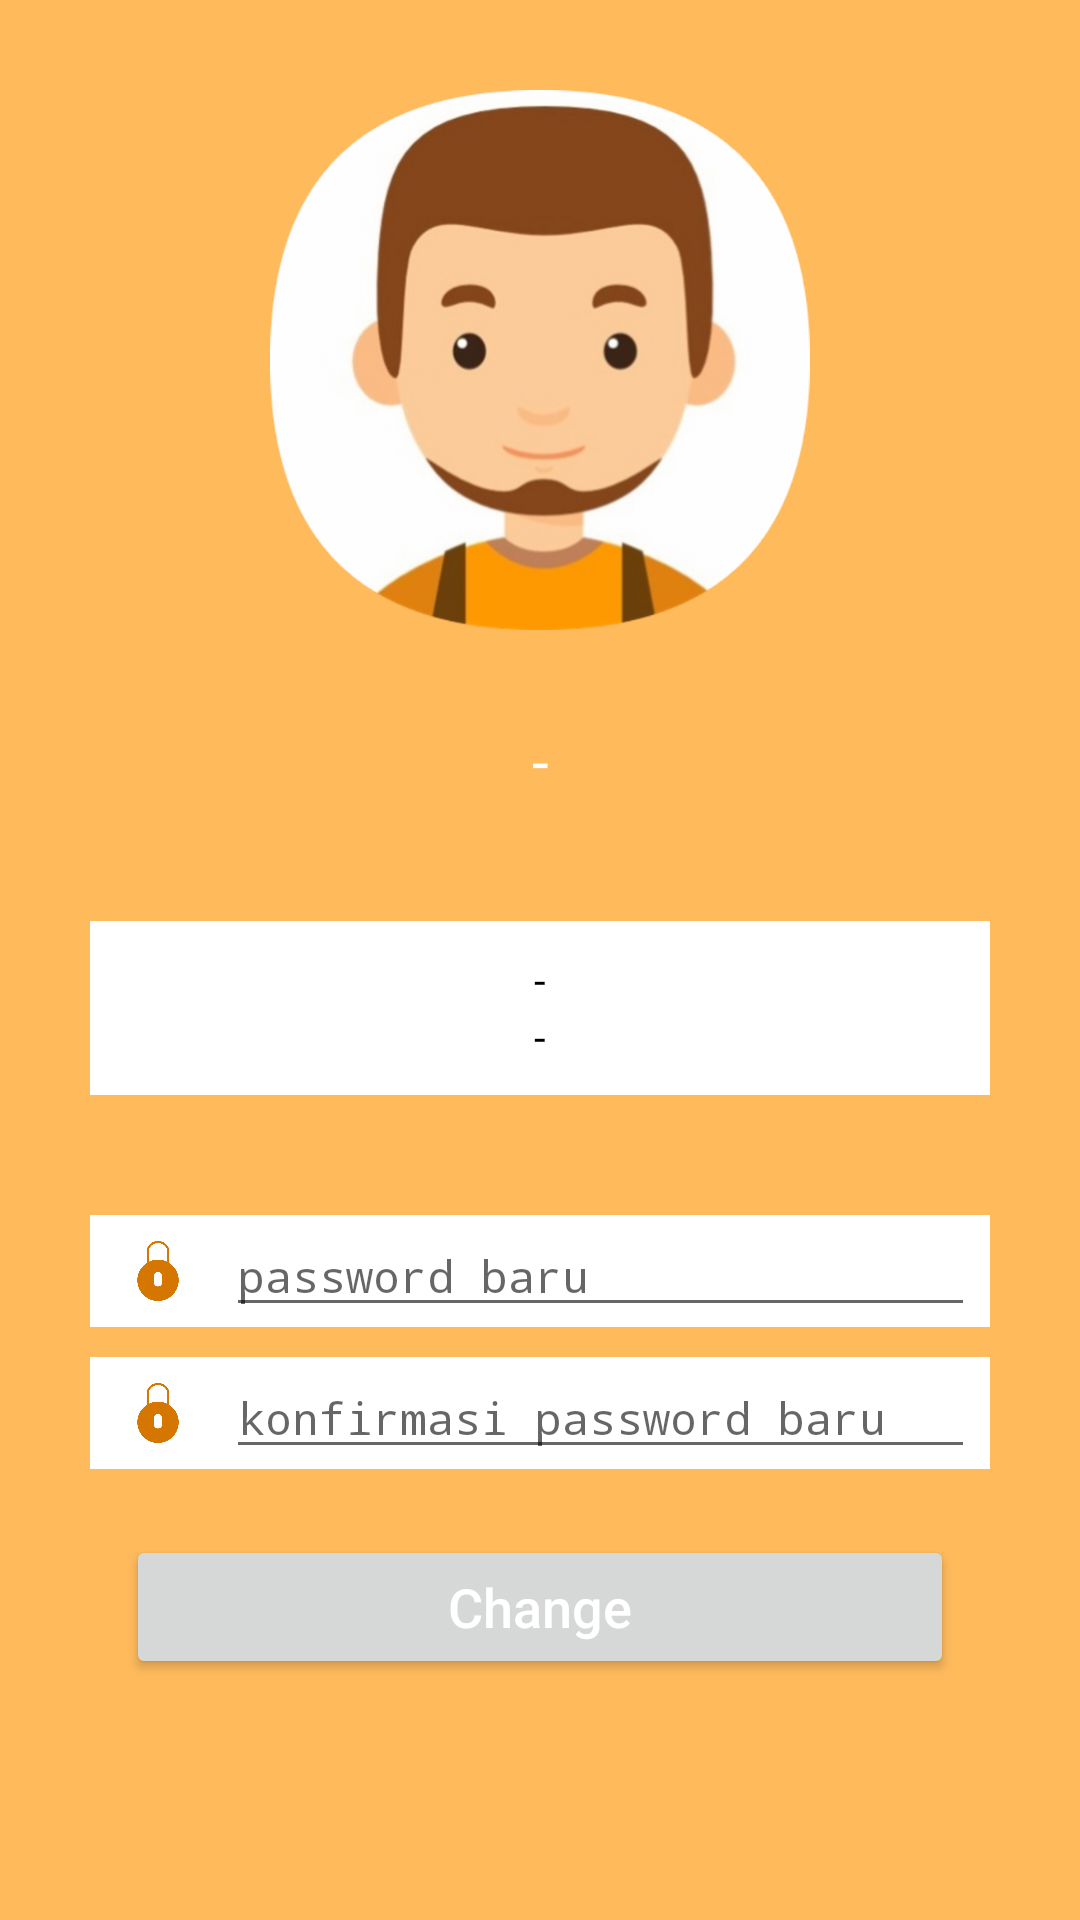

Icon bounding boxes for this 1080*1920 phone screenshot, format (x1, y1, x2, y2):
locked: (137, 1241, 179, 1301), (137, 1383, 179, 1443)
